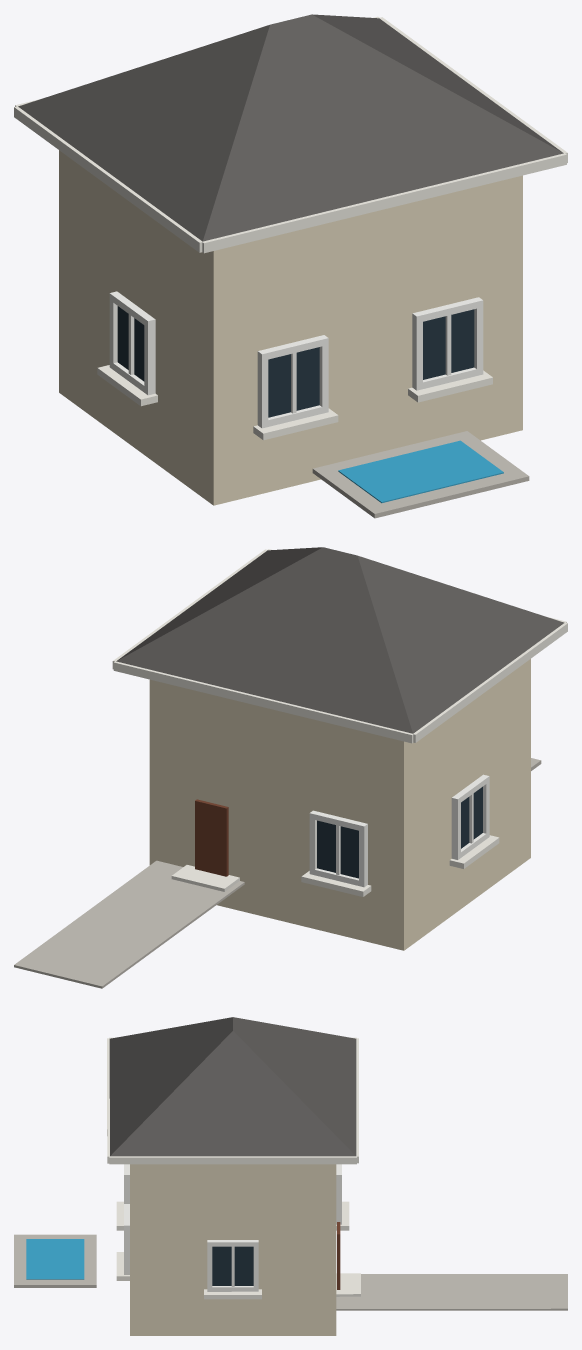
3 renders of one model, top to bottom at view 1: azimuth 30°, elevation 25°; view 2: azimuth 150°, elevation 25°; view 3: azimuth 270°, elevation 25°, orthographic. The views are drawn at different scales.
Parts seen in each view (by area): view 1: b10467; view 2: b10467; view 3: b10467.
Boxes of the visible parts, x1,y1,x2,y2 form: b10467: (14, 14, 567, 518); b10467: (14, 547, 567, 988); b10467: (14, 1017, 567, 1335).
Size of the model in its own units: 3432 by 3488 by 6694.
